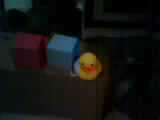duck: (73, 49, 107, 85)
